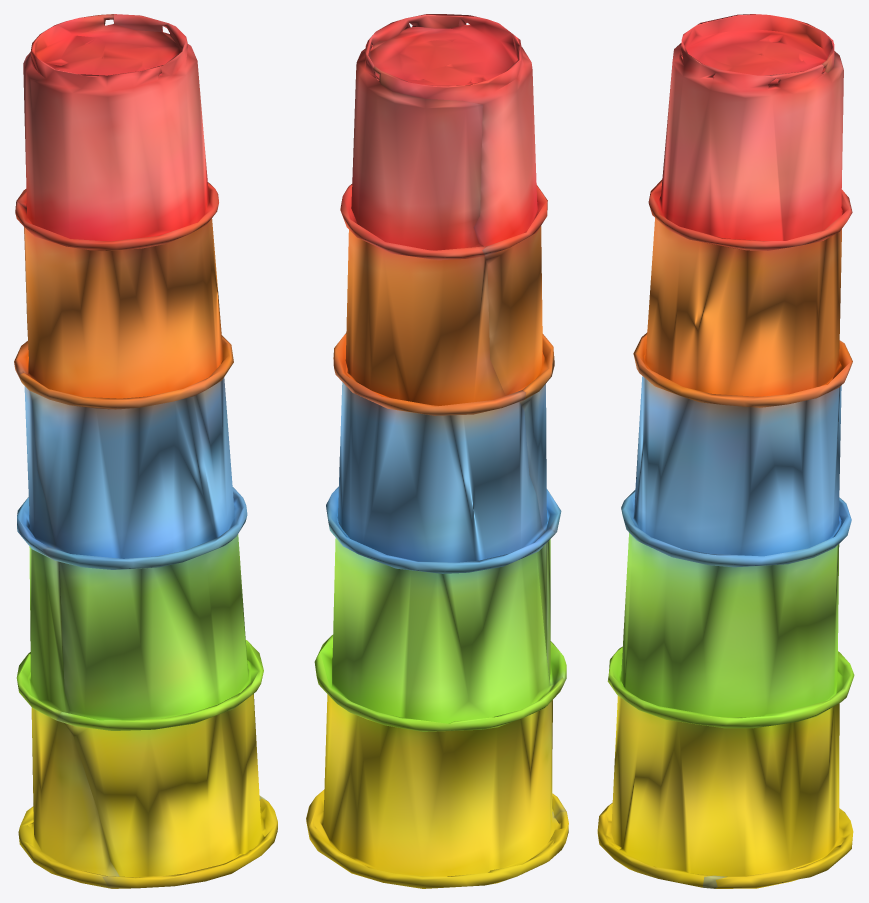
The model's file is Baby_Elements_Stacking_Cups-medium.glb.
The picture shows the model from 3 angles, left to right: view 1: azimuth 30°, elevation 25°; view 2: azimuth 150°, elevation 25°; view 3: azimuth 270°, elevation 25°; orthographic projection. The views are drawn at different scales.
Parts seen in each view (by area): view 1: Baby_Elements_Stacking_Cups; view 2: Baby_Elements_Stacking_Cups; view 3: Baby_Elements_Stacking_Cups.
Part boxes in pixels (box(x1,y1,x2,y2)): Baby_Elements_Stacking_Cups: box(14, 14, 277, 888); Baby_Elements_Stacking_Cups: box(306, 14, 568, 888); Baby_Elements_Stacking_Cups: box(597, 14, 854, 888).
Bounding box in the file's own units: 0.1024 × 0.3459 × 0.1017.
Materials: 1 (1 with a texture image).
